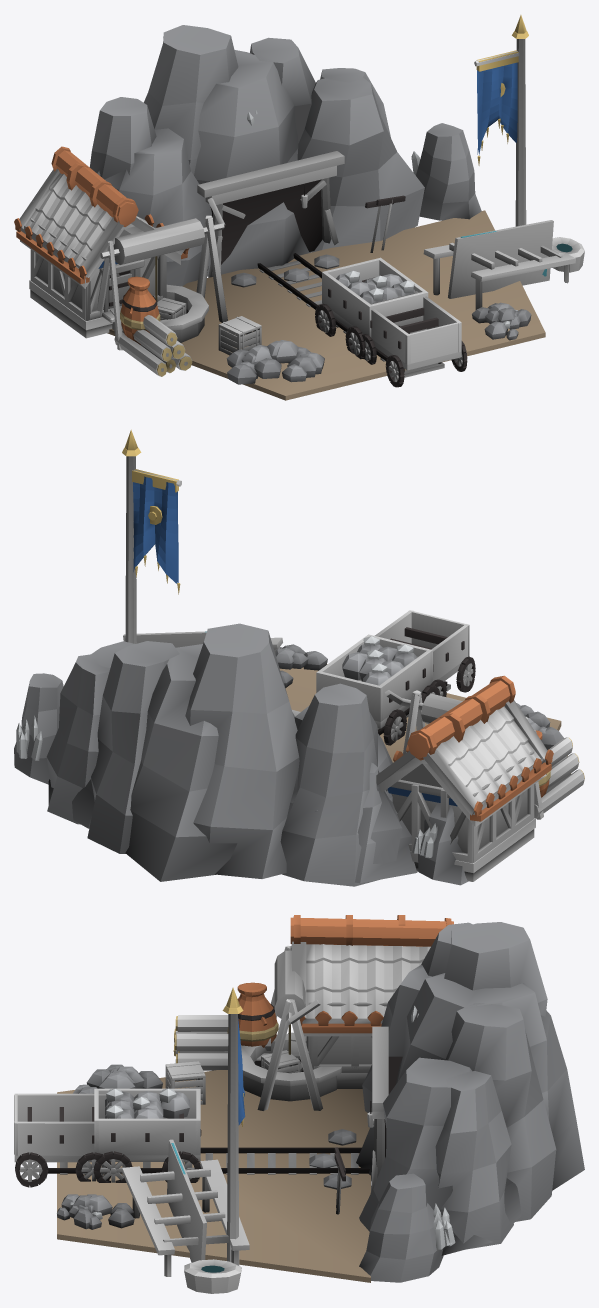
File: silver-mine-l2.glb
The picture shows the model from 3 angles, top to bottom: view 1: azimuth 30°, elevation 25°; view 2: azimuth 150°, elevation 25°; view 3: azimuth 270°, elevation 25°; orthographic projection. The views are drawn at different scales.
Parts seen in each view (by area): view 1: silver-mine-l2; view 2: silver-mine-l2; view 3: silver-mine-l2.
Boxes of the visible parts, <box> form: silver-mine-l2: <box>14,15,584,400</box>; silver-mine-l2: <box>14,429,584,886</box>; silver-mine-l2: <box>14,915,584,1293</box>.
Bounding box in the file's own units: 1.7 × 0.9066 × 1.62.
